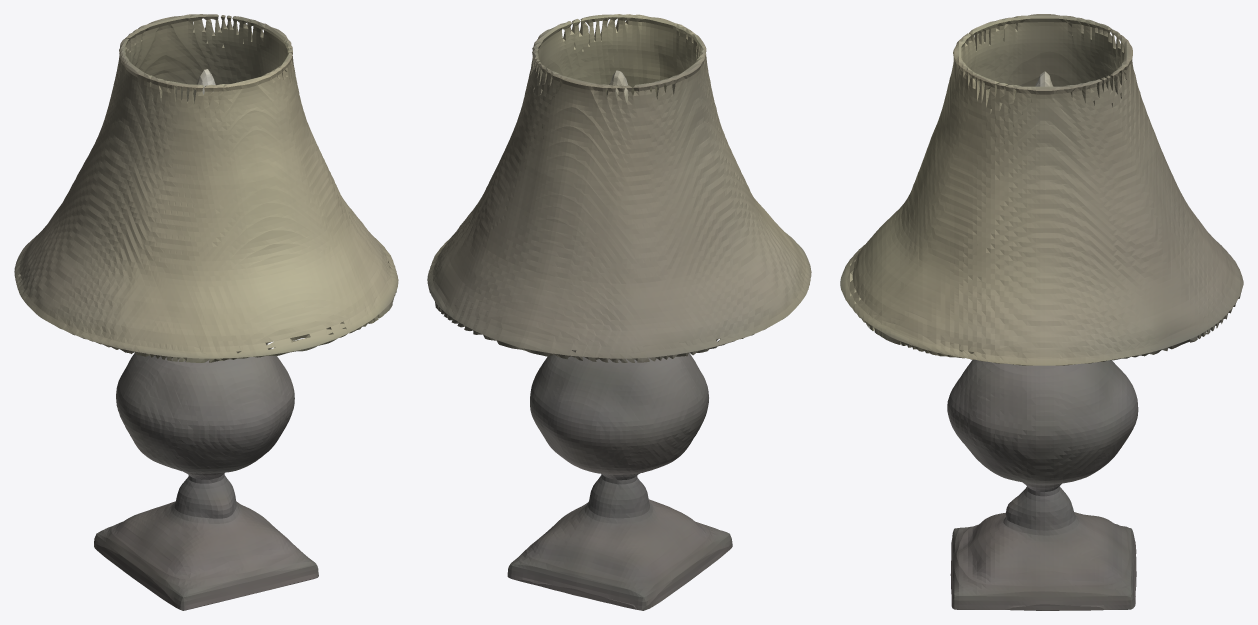
File: lamp.glb
The picture shows the model from 3 angles, left to right: view 1: azimuth 30°, elevation 25°; view 2: azimuth 150°, elevation 25°; view 3: azimuth 270°, elevation 25°; orthographic projection. The views are drawn at different scales.
Visible parts, largest first — view 1: tmp3jtih4b8.ply; view 2: tmp3jtih4b8.ply; view 3: tmp3jtih4b8.ply.
Boxes of the visible parts, bbox=[...] form: tmp3jtih4b8.ply: bbox=[14, 14, 398, 610]; tmp3jtih4b8.ply: bbox=[427, 14, 811, 610]; tmp3jtih4b8.ply: bbox=[840, 14, 1243, 610].
Bounding box in the file's own units: 1.35 × 1.98 × 1.38.
